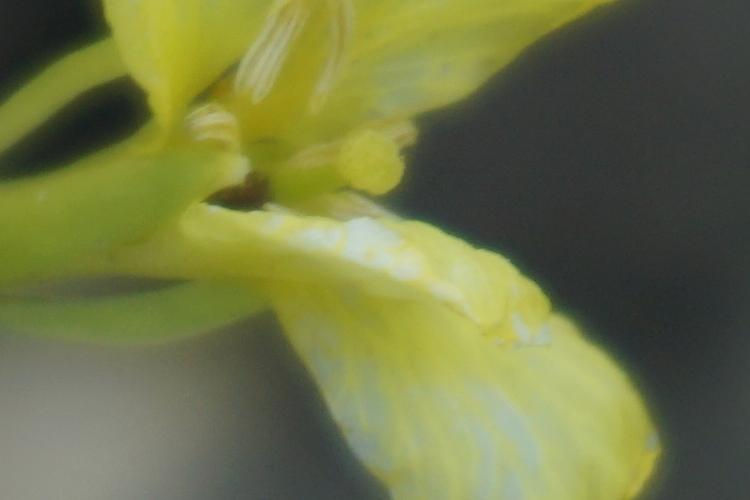yellow: (37, 10, 687, 493)
